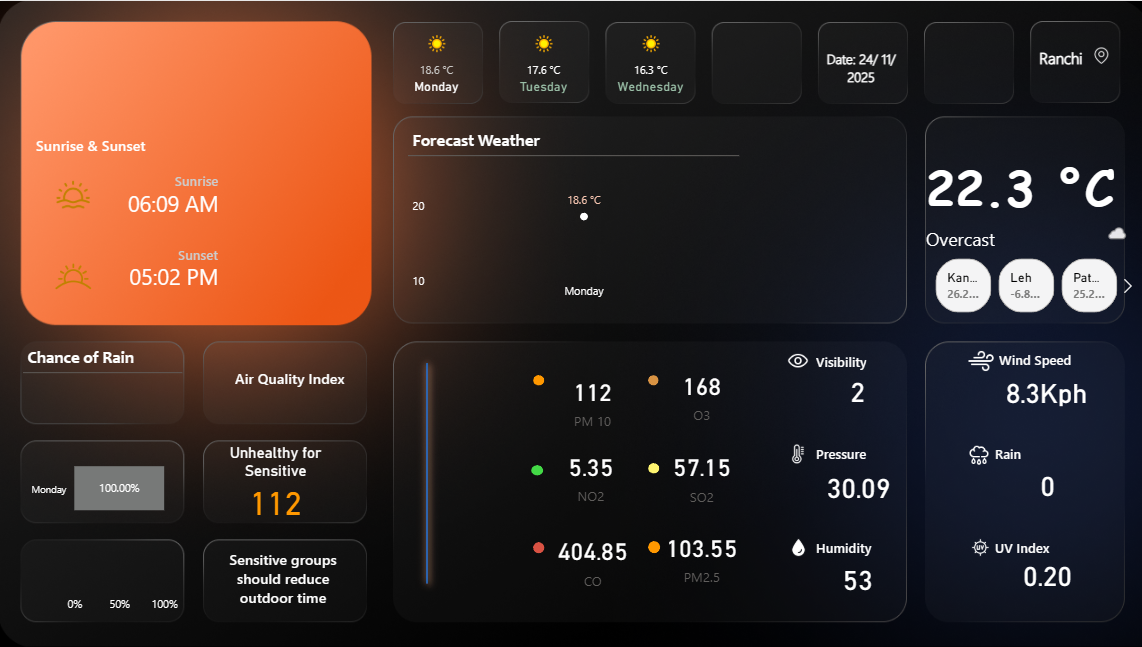

Layout of this report page (visuals, bound fields, positions):
{"tool":"powerbi","page":{"name":"Page 1","canvas":[1280,720],"ordinal":0},"visuals":[{"type":"advancedSlicerVisual","fields":{"Values":["Location.location.name"]},"box":[1017.2,281,255,70],"z":2000},{"type":"shape","box":[1031.5,152.6,211.9,106.8],"z":3000},{"type":"shape","box":[1031.5,242.4,115.8,42.2],"z":4000},{"type":"shape","box":[1049.1,43.9,156.1,34.2],"z":5000},{"type":"image","box":[1210.1,47.2,32.5,27.7],"z":6000},{"type":"shape","box":[917.5,44,82.6,57.5],"z":7000},{"type":"cardVisual","fields":{"Data":["Min(Current.current.condition.icon)"]},"box":[1184.1,211,90.7,94.3],"z":8000},{"type":"image","box":[868.9,381.1,40,36.7],"z":9000},{"type":"shape","box":[908.9,384.4,134.4,31.1],"z":10000},{"type":"image","box":[1070,486.7,40,35.6],"z":11000},{"type":"image","box":[868.9,487.8,40,31.1],"z":12000},{"type":"image","box":[1074.4,592.2,34.4,30],"z":13000},{"type":"image","box":[1072.2,380,40,40],"z":14000},{"type":"image","box":[874.4,592.2,30,30],"z":15000},{"type":"shape","box":[1112.2,383.3,125.6,30],"z":16000},{"type":"shape","box":[908.9,486.7,134.4,31.1],"z":17000},{"type":"shape","box":[1107.8,486.7,135.6,31.1],"z":18000},{"type":"shape","box":[908.9,591.1,134.4,31.1],"z":19000},{"type":"shape","box":[1107.8,592.2,134.4,30],"z":20000},{"type":"card","fields":{"Values":["Sum(Current.current.humidity)"]},"box":[927.8,620,54.4,43.3],"z":21000},{"type":"card","fields":{"Values":["Sum(Current.current.uv)"]},"box":[1122.2,616.7,87.8,42.2],"z":22000},{"type":"card","fields":{"Values":["Sum(Current.current.pressure_in)"]},"box":[908.9,518.9,94.4,42.2],"z":23000},{"type":"card","fields":{"Values":["Sum(Current.current.vis_km)"]},"box":[917.8,412.2,74.4,42.2],"z":24000},{"type":"card","fields":{"Values":["_Measures.Wind_Speed"]},"box":[1100,412.2,130,43.3],"z":25000},{"type":"card","fields":{"Values":["Sum(Forecast_day.forecast.forecastday.day.daily_chance_of_rain)"]},"box":[1118.9,515.6,94.4,43.3],"z":26000},{"type":"lineChart","title":"Forecast Weather","fields":{"Y":["Sum(Forecast_day.forecast.forecastday.day.avgtemp_c)"],"Category":["Forecast_day.Day_Name"]},"box":[456.1,143.6,368.1,196.6],"z":27000},{"type":"advancedSlicerVisual","fields":{"Values":["Forecast_day.Day_Name"]},"box":[426.4,24.2,360,96.1],"z":28000},{"type":"shape","box":[42.3,144.8,135,30.9],"z":29000},{"type":"shape","box":[111.8,190,132.7,68.2],"z":30000},{"type":"shape","box":[110.6,271.6,133.4,68.3],"z":31000},{"type":"shape","box":[136.4,184.5,108.2,30.9],"z":32000},{"type":"shape","box":[134.5,266.4,110,30],"z":33000},{"type":"image","box":[51.8,274.5,63.6,62.7],"z":34000},{"type":"image","box":[60,190.9,47.3,48.2],"z":35000},{"type":"hundredPercentStackedBarChart","title":"Chance of Rain","fields":{"Y":["Sum(Forecast_day.forecast.forecastday.day.daily_chance_of_rain)","Current.Left_value_Rain"],"Category":["Forecast_day.Day_Name"]},"box":[27.8,384.2,176.9,302.5],"z":36000},{"type":"shape","box":[263,404,135.6,28.7],"z":37000},{"type":"card","fields":{"Values":["Sum(Current.current.air_quality.pm10)"]},"box":[607.8,404,105.9,78.1],"z":38000},{"type":"shape","box":[594.5,600.9,12.7,12.7],"z":39000},{"type":"card","fields":{"Values":["Sum(Current.current.air_quality.o3)"]},"box":[729.1,398.2,106.4,78.2],"z":40000},{"type":"card","fields":{"Values":["Sum(Current.current.air_quality.so2)"]},"box":[729.1,489.1,106.4,77.3],"z":41000},{"type":"card","fields":{"Values":["Sum(Current.current.air_quality.no2)"]},"box":[605.5,488.2,106.4,78.2],"z":42000},{"type":"card","fields":{"Values":["Sum(Current.current.air_quality.co)"]},"box":[607.3,581.8,106.4,77.3],"z":43000},{"type":"card","fields":{"Values":["Sum(Current.current.air_quality.pm2_5)"]},"box":[729.1,578.2,106.4,78.2],"z":44000},{"type":"shape","box":[722.7,513.6,12.7,11.8],"z":45000},{"type":"shape","box":[594.5,415.5,12.7,11.8],"z":46000},{"type":"shape","box":[722.7,415.5,11.8,11.8],"z":47000},{"type":"shape","box":[592.7,515.5,13.6,11.8],"z":48000},{"type":"shape","box":[722.7,600,13.6,13.6],"z":49000},{"type":"shape","box":[456.1,393.2,42.2,263],"z":50000},{"type":"card","fields":{"Values":["Sum(Current.current.air_quality.pm10)"]},"box":[245.1,492,125.7,108.6],"z":51000},{"type":"shape","box":[236.1,609.6,162.5,63.7],"z":52000}]}

Visuals, with their boxes in screenshot pixels (x1, y1, x2, y2), scaled from the page's 1280x720 canvas onto the 1142x647 screenshot:
advancedSlicerVisual - Location.location.name: bbox(908, 253, 1135, 315)
shape: bbox(920, 137, 1109, 233)
shape: bbox(920, 218, 1024, 256)
shape: bbox(936, 39, 1075, 70)
image: bbox(1080, 42, 1109, 67)
shape: bbox(819, 40, 892, 91)
cardVisual - Min(Current.current.condition.icon): bbox(1056, 190, 1137, 274)
image: bbox(775, 342, 811, 375)
shape: bbox(811, 345, 931, 373)
image: bbox(955, 437, 990, 469)
image: bbox(775, 438, 811, 466)
image: bbox(959, 532, 989, 559)
image: bbox(957, 341, 992, 377)
image: bbox(780, 532, 807, 559)
shape: bbox(992, 344, 1104, 371)
shape: bbox(811, 437, 931, 465)
shape: bbox(988, 437, 1109, 465)
shape: bbox(811, 531, 931, 559)
shape: bbox(988, 532, 1108, 559)
card - Sum(Current.current.humidity): bbox(828, 557, 876, 596)
card - Sum(Current.current.uv): bbox(1001, 554, 1080, 592)
card - Sum(Current.current.pressure_in): bbox(811, 466, 895, 504)
card - Sum(Current.current.vis_km): bbox(819, 370, 885, 408)
card - _Measures.Wind_Speed: bbox(981, 370, 1097, 409)
card - Sum(Forecast_day.forecast.forecastday.day.daily_chance_of_rain): bbox(998, 463, 1082, 502)
"Forecast Weather" lineChart: bbox(407, 129, 735, 306)
advancedSlicerVisual - Forecast_day.Day_Name: bbox(380, 22, 702, 108)
shape: bbox(38, 130, 158, 158)
shape: bbox(100, 171, 218, 232)
shape: bbox(99, 244, 218, 305)
shape: bbox(122, 166, 218, 194)
shape: bbox(120, 239, 218, 266)
image: bbox(46, 247, 103, 303)
image: bbox(54, 172, 96, 215)
"Chance of Rain" hundredPercentStackedBarChart: bbox(25, 345, 183, 617)
shape: bbox(235, 363, 356, 389)
card - Sum(Current.current.air_quality.pm10): bbox(542, 363, 637, 433)
shape: bbox(530, 540, 542, 551)
card - Sum(Current.current.air_quality.o3): bbox(650, 358, 745, 428)
card - Sum(Current.current.air_quality.so2): bbox(650, 440, 745, 509)
card - Sum(Current.current.air_quality.no2): bbox(540, 439, 635, 509)
card - Sum(Current.current.air_quality.co): bbox(542, 523, 637, 592)
card - Sum(Current.current.air_quality.pm2_5): bbox(650, 520, 745, 590)
shape: bbox(645, 462, 656, 472)
shape: bbox(530, 373, 542, 384)
shape: bbox(645, 373, 655, 384)
shape: bbox(529, 463, 541, 474)
shape: bbox(645, 539, 657, 551)
shape: bbox(407, 353, 445, 590)
card - Sum(Current.current.air_quality.pm10): bbox(219, 442, 331, 540)
shape: bbox(211, 548, 356, 605)
